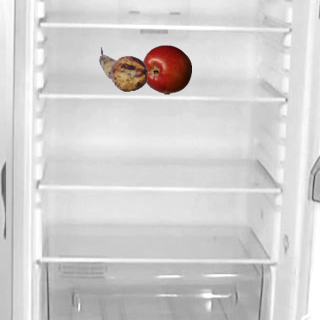Apple Braeburn: (141, 44, 191, 94)
Pear Abate: (98, 44, 148, 94)
